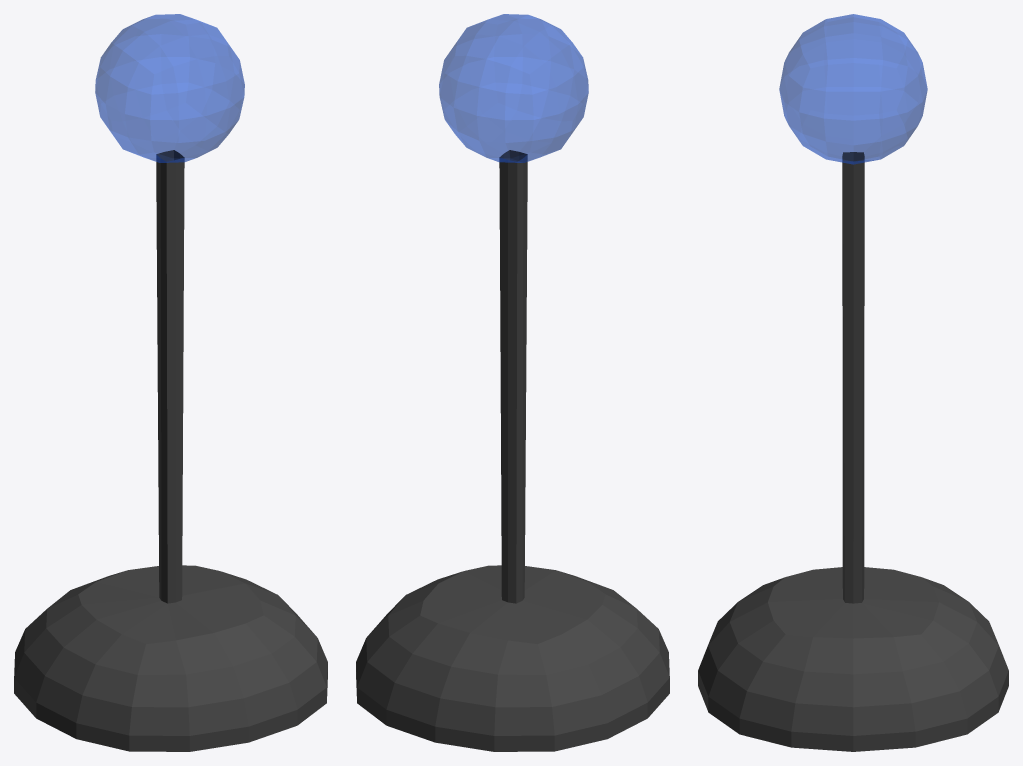
The model's file is SavePoint.fbx.
3 views of the same model, side by side, from view 1: azimuth 30°, elevation 25°; view 2: azimuth 150°, elevation 25°; view 3: azimuth 270°, elevation 25° (orthographic).
Parts seen in each view (by area): view 1: Cube; view 2: Cube; view 3: Cube.
Part boxes in pixels (x1,y1,x2,y2): Cube: [14, 14, 327, 751]; Cube: [356, 14, 669, 751]; Cube: [698, 14, 1008, 751].
Bounding box in the file's own units: 109 × 258 × 109.
